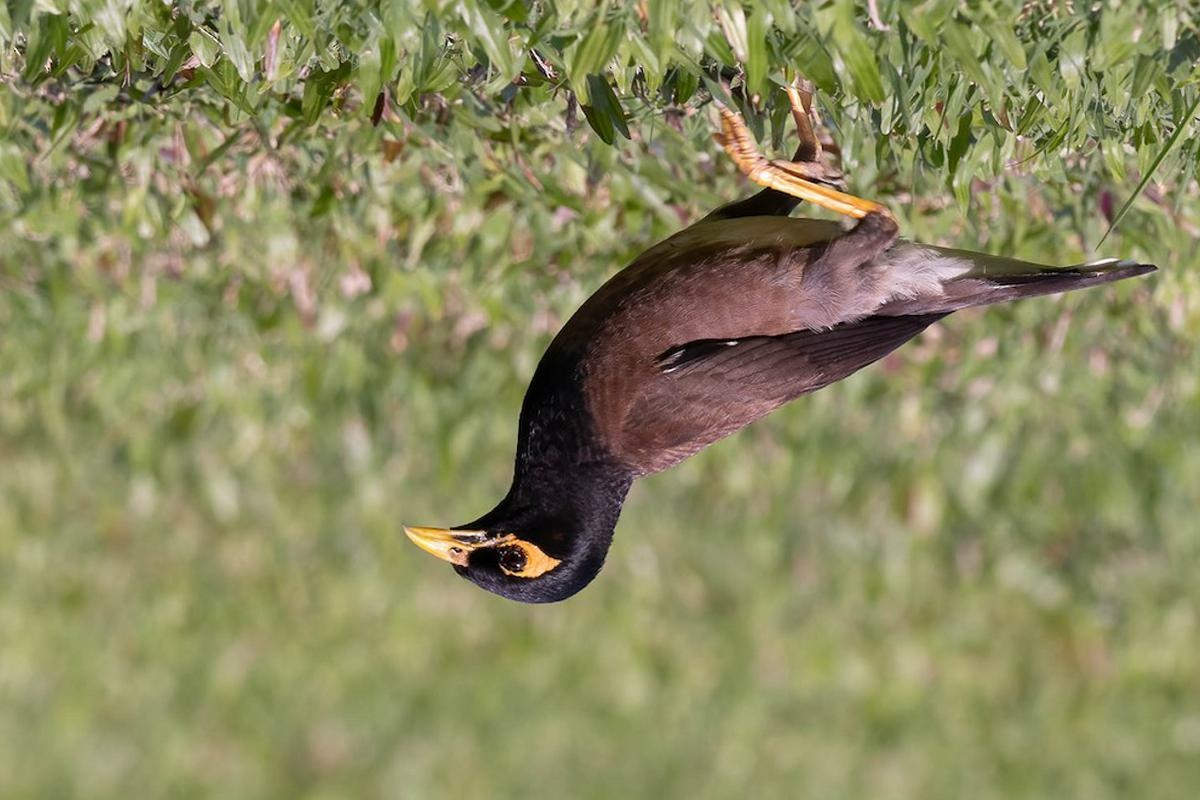myna: (414, 142, 1118, 611)
